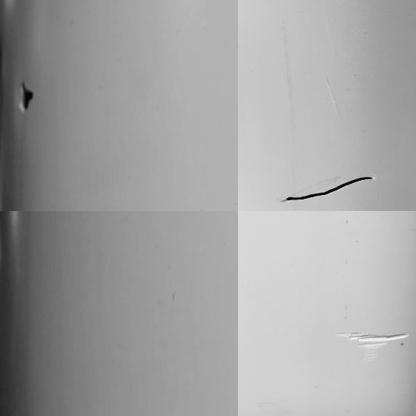fengxi: (270, 172, 378, 202)
kongdong: (16, 80, 37, 113)
sunshang: (337, 327, 410, 353)
